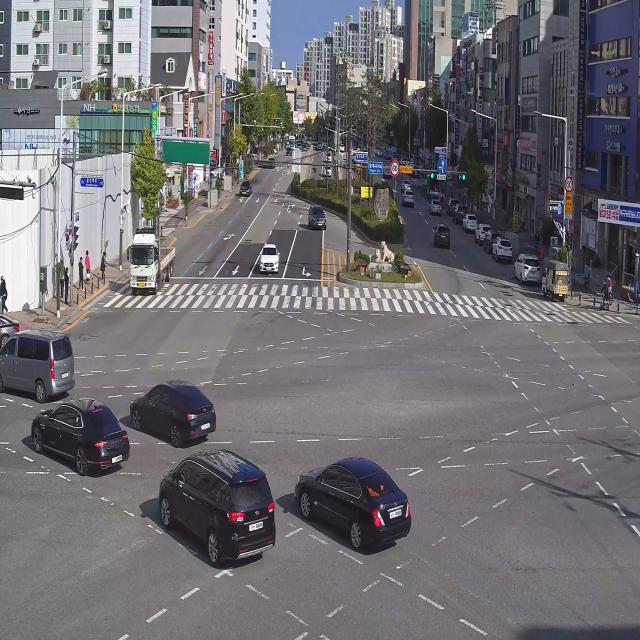Bus: (353, 163, 364, 183), (288, 134, 296, 152)
Car: (149, 441, 286, 574), (290, 444, 418, 564), (28, 394, 134, 480), (0, 326, 88, 406), (127, 376, 220, 449), (511, 252, 541, 288), (256, 239, 282, 280), (493, 233, 515, 267), (307, 202, 329, 234), (432, 220, 453, 252), (462, 211, 481, 238), (483, 226, 502, 253), (474, 220, 490, 247), (427, 199, 446, 221), (237, 178, 253, 199), (446, 195, 459, 219), (401, 183, 415, 205), (454, 203, 469, 223), (401, 176, 412, 192), (382, 162, 392, 179), (411, 163, 420, 180), (323, 164, 332, 180), (324, 150, 333, 164), (284, 148, 294, 158), (351, 149, 358, 163), (341, 156, 348, 169), (391, 152, 398, 164), (404, 158, 412, 168), (339, 141, 345, 152), (372, 144, 378, 154), (376, 148, 382, 158), (400, 155, 406, 165), (423, 176, 427, 190), (302, 144, 308, 152), (297, 142, 302, 151), (362, 144, 367, 152), (351, 144, 355, 152)
Truck: (122, 224, 179, 301), (537, 251, 571, 305), (426, 172, 443, 202), (382, 143, 395, 160), (317, 138, 323, 151)
